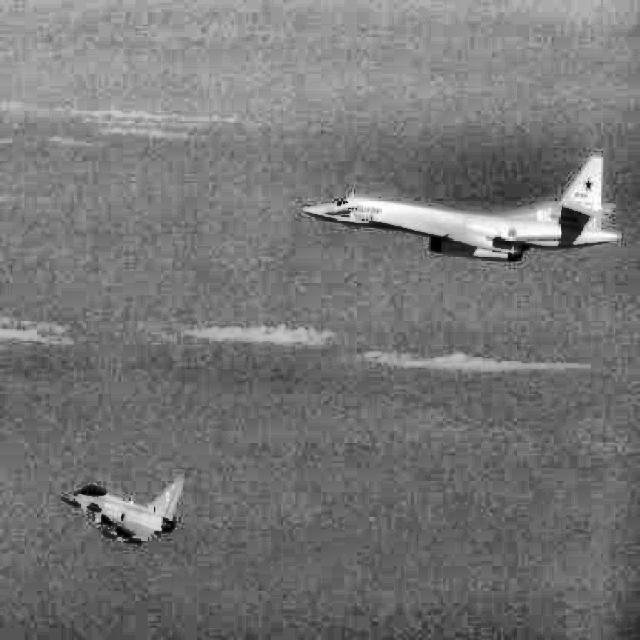EF2000: (61, 479, 184, 546)
Tu160: (304, 154, 621, 260)
